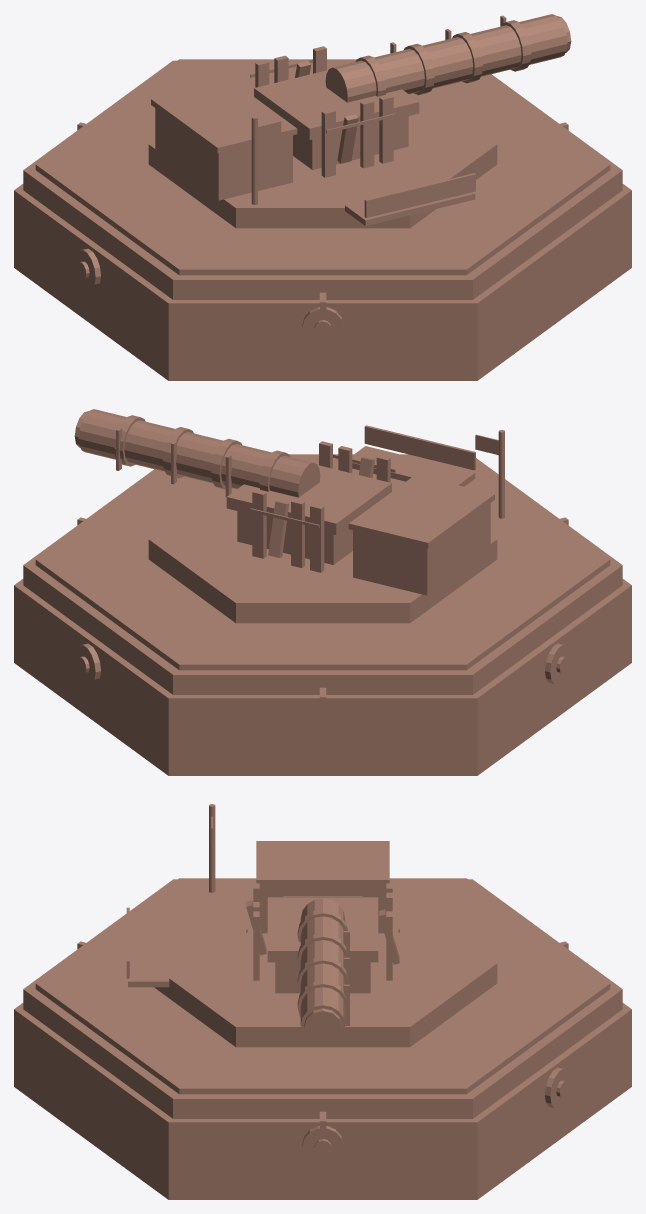
Rendered from phalanx_s2_50.glb.
3 views of the same model, one above another, from view 1: azimuth 30°, elevation 25°; view 2: azimuth 150°, elevation 25°; view 3: azimuth 270°, elevation 25° (orthographic).
Visible parts, largest first — view 1: PX_AmmoFr; view 2: PX_AmmoFr; view 3: PX_AmmoFr.
Part boxes in pixels (left/top/right/bottom): PX_AmmoFr: left=14, top=14, right=631, bottom=380; PX_AmmoFr: left=14, top=409, right=631, bottom=775; PX_AmmoFr: left=14, top=804, right=631, bottom=1199.
Size of the model in its own units: 3.54 by 1.54 by 3.9.
